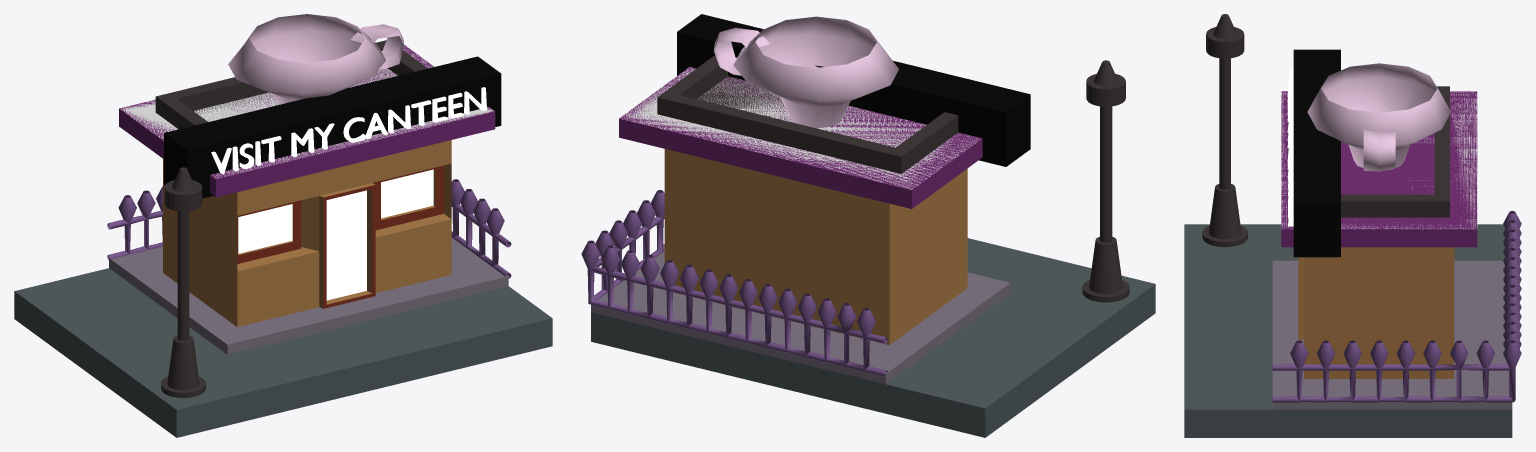
File: canteen.gltf
3 renders of one model, left to right at view 1: azimuth 30°, elevation 25°; view 2: azimuth 150°, elevation 25°; view 3: azimuth 270°, elevation 25°, orthographic. The views are drawn at different scales.
Parts seen in each view (by area): view 1: Plane, Plane.003, Cube, Plane.002, Circle, Plane.004, Plane.008, Plane.007, Plane.005, Plane.006, Text, Circle.001; view 2: Plane.003, Plane, Plane.004, Plane.007, Plane.002, Circle, Cube, Plane.006, Plane.005, Plane.008, Circle.001; view 3: Plane, Plane.003, Plane.002, Plane.004, Plane.007, Circle, Cube, Plane.008, Plane.006, Plane.005, Circle.001, Text.
Boxes of the visible parts, left/top/right/bottom form: Plane: left=14, top=268, right=552, bottom=437; Plane.003: left=163, top=140, right=451, bottom=326; Cube: left=164, top=56, right=501, bottom=198; Plane.002: left=109, top=237, right=508, bottom=354; Circle: left=228, top=14, right=385, bottom=104; Plane.004: left=119, top=45, right=495, bottom=197; Plane.008: left=161, top=167, right=205, bottom=397; Plane.007: left=107, top=179, right=511, bottom=278; Plane.005: left=120, top=46, right=493, bottom=178; Plane.006: left=155, top=40, right=427, bottom=129; Text: left=211, top=87, right=486, bottom=174; Circle.001: left=350, top=24, right=404, bottom=69; Plane.003: left=664, top=149, right=967, bottom=345; Plane: left=591, top=238, right=1155, bottom=437; Plane.004: left=619, top=67, right=982, bottom=208; Plane.007: left=581, top=190, right=887, bottom=376; Plane.002: left=591, top=251, right=1010, bottom=384; Circle: left=733, top=16, right=898, bottom=128; Cube: left=677, top=14, right=1030, bottom=166; Plane.006: left=657, top=56, right=958, bottom=173; Plane.005: left=620, top=67, right=980, bottom=189; Plane.008: left=1082, top=60, right=1129, bottom=302; Circle.001: left=713, top=27, right=769, bottom=75; Plane: left=1184, top=224, right=1512, bottom=437; Plane.003: left=1298, top=247, right=1454, bottom=378; Plane.002: left=1272, top=260, right=1512, bottom=409; Plane.004: left=1281, top=91, right=1477, bottom=247; Plane.007: left=1272, top=211, right=1521, bottom=402; Circle: left=1307, top=63, right=1450, bottom=170; Cube: left=1293, top=49, right=1340, bottom=257; Plane.008: left=1202, top=14, right=1247, bottom=247; Plane.006: left=1341, top=86, right=1449, bottom=217; Plane.005: left=1281, top=91, right=1477, bottom=229; Circle.001: left=1363, top=129, right=1395, bottom=171; Text: left=1287, top=69, right=1293, bottom=226.
Size of the model in its own units: 8.3 by 5.66 by 6.26.
